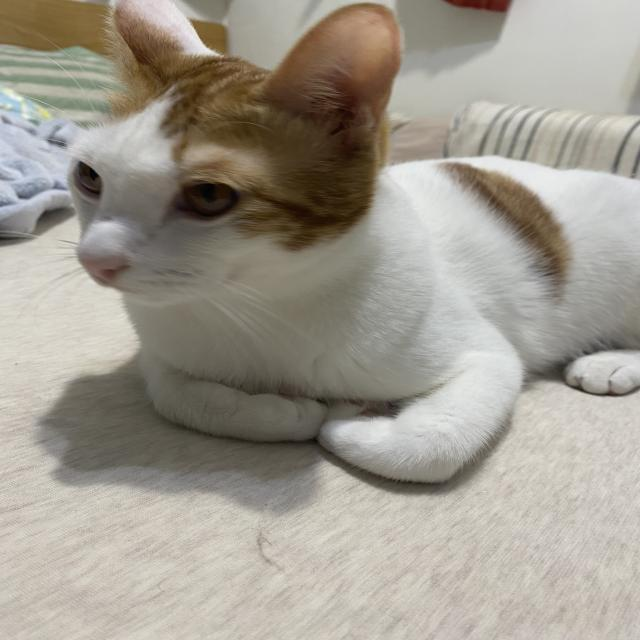cat1: (61, 2, 640, 487)
